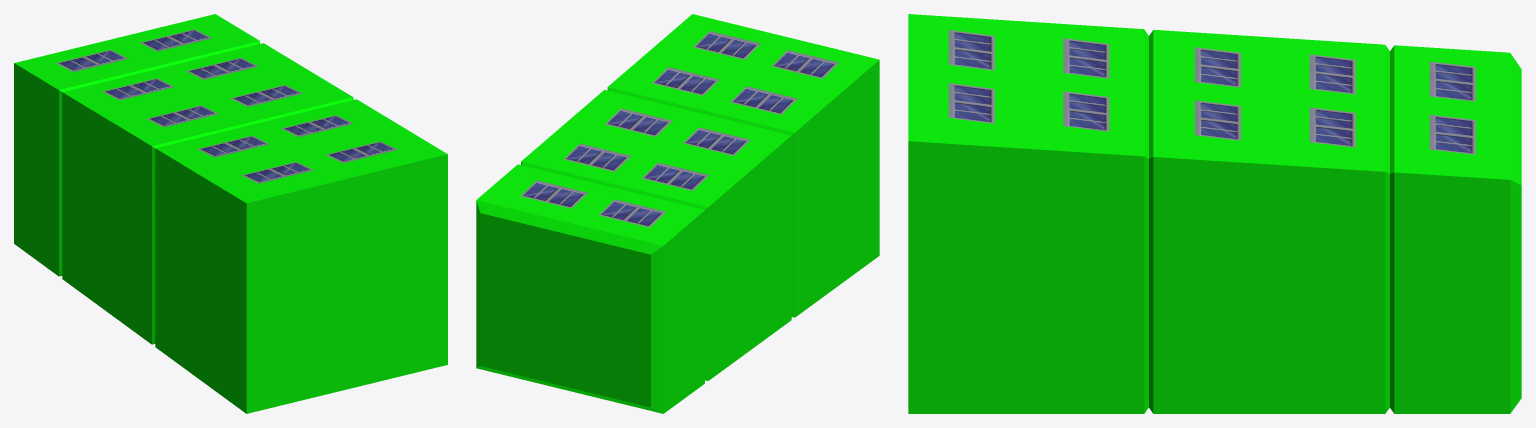
The model's file is building_5s_01.FBX.
3 renders of one model, left to right at view 1: azimuth 30°, elevation 25°; view 2: azimuth 150°, elevation 25°; view 3: azimuth 270°, elevation 25°, orthographic. The views are drawn at different scales.
Visible parts, largest first — view 1: building_5s_01; view 2: building_5s_01; view 3: building_5s_01.
Boxes of the visible parts, x1,y1,x2,y2 form: building_5s_01: (14,14,447,413); building_5s_01: (476,14,879,413); building_5s_01: (908,14,1521,413).
Bounding box in the file's own units: 10 × 10.07 × 20.38.
